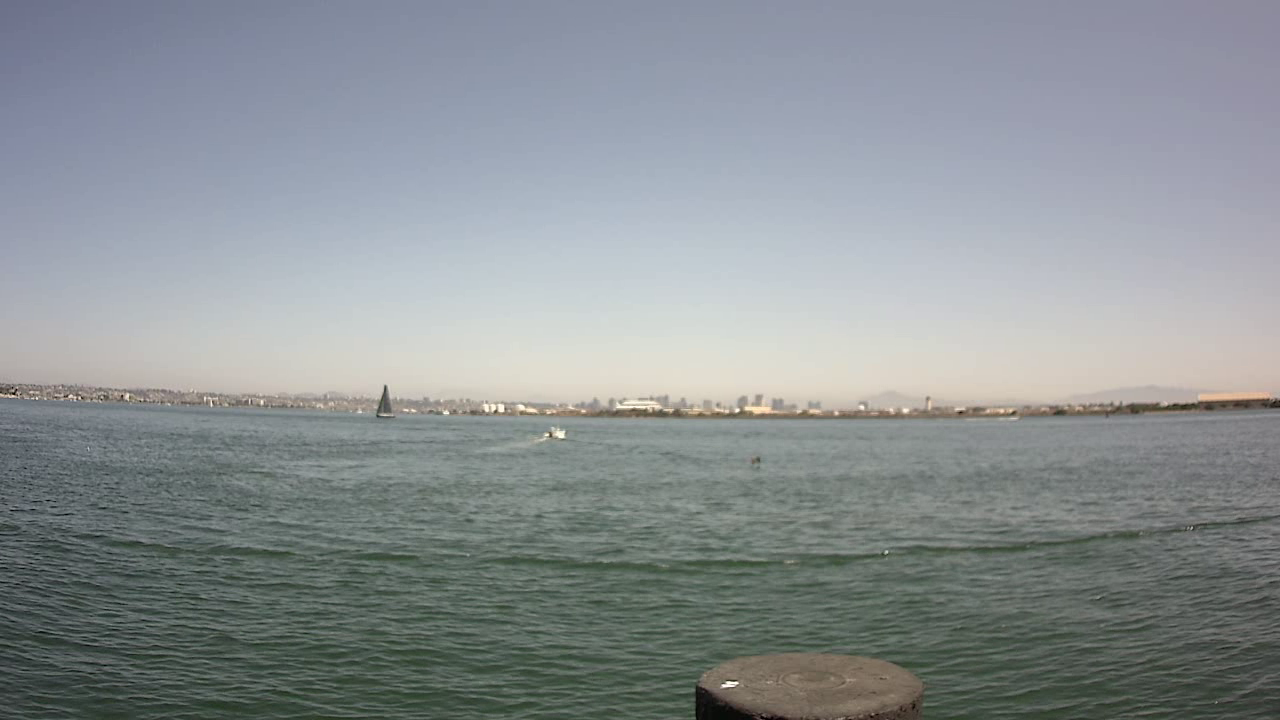target: (537, 419, 576, 445)
